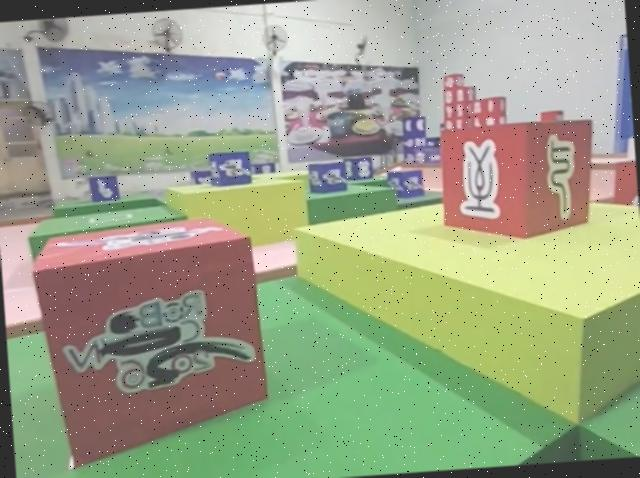R1: (28, 211, 273, 473)
R2 Fake: (435, 114, 602, 246)
R2 Real: (610, 156, 640, 232)
